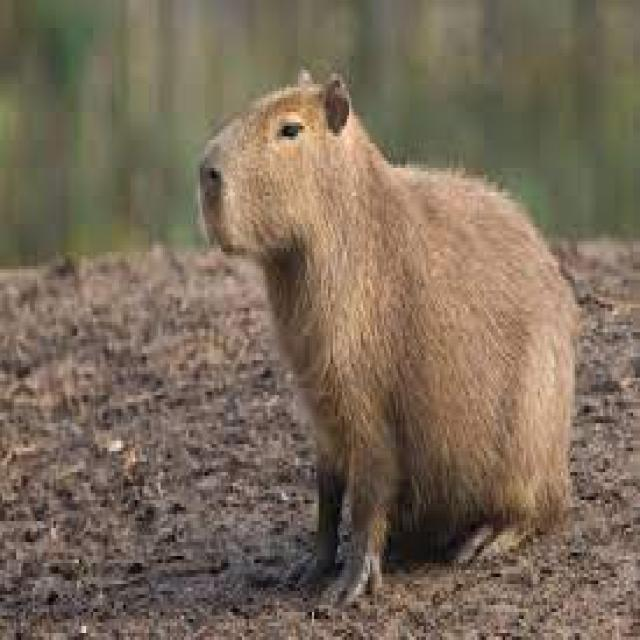capy: (198, 64, 580, 616)
